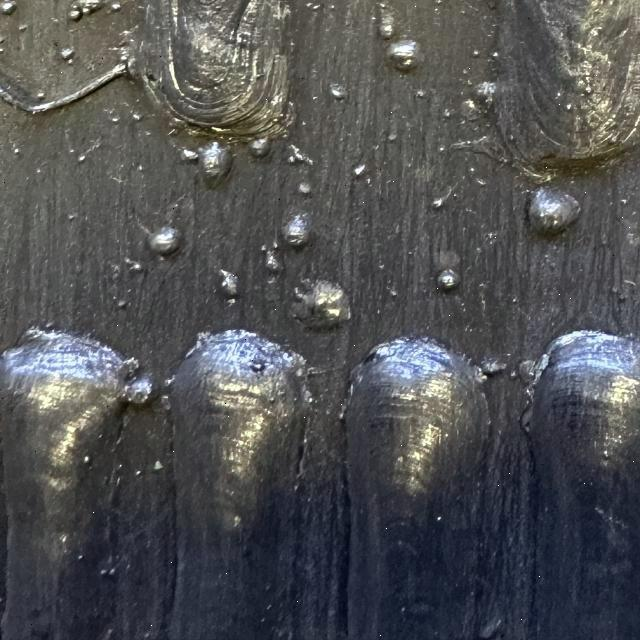Excess Reinforcement: (285, 354, 305, 479), (517, 355, 546, 433), (122, 380, 152, 404), (265, 252, 285, 278), (488, 358, 504, 376)
Spatters: (524, 183, 584, 238), (287, 283, 354, 328), (384, 40, 422, 78), (198, 145, 233, 186), (143, 227, 181, 257), (284, 215, 307, 248), (249, 139, 275, 161), (440, 269, 458, 297), (222, 272, 236, 298), (56, 44, 76, 62), (467, 99, 482, 121), (72, 2, 88, 22), (1, 1, 18, 19), (332, 84, 344, 103), (354, 168, 367, 184), (432, 195, 443, 213), (382, 22, 392, 40)
